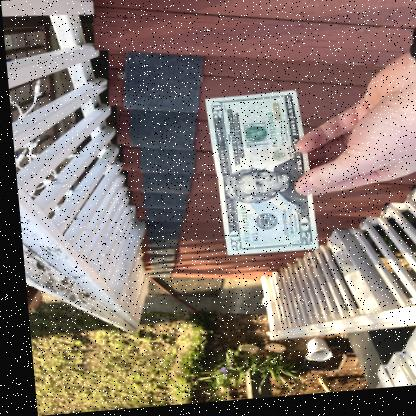twenty-front: (204, 88, 317, 254)
